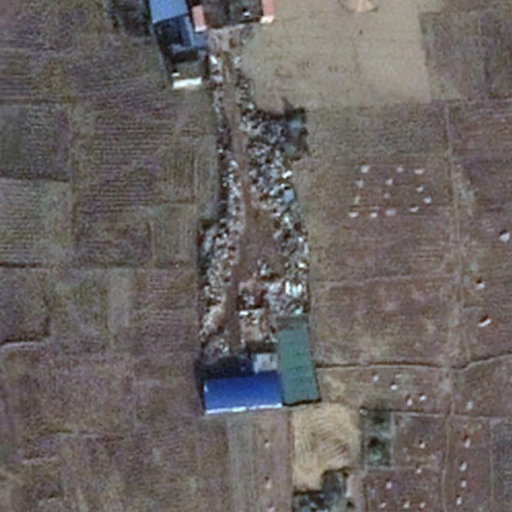msw: (193, 107, 311, 371)
